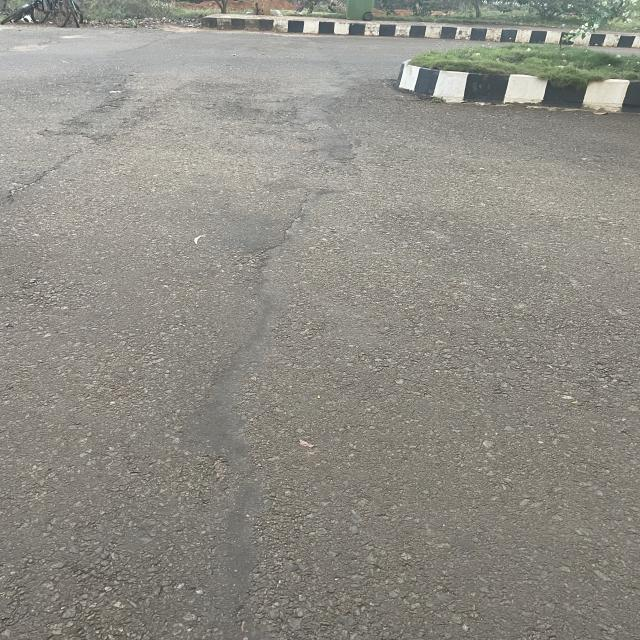D01: (208, 167, 312, 640)
D43: (13, 73, 262, 183)
